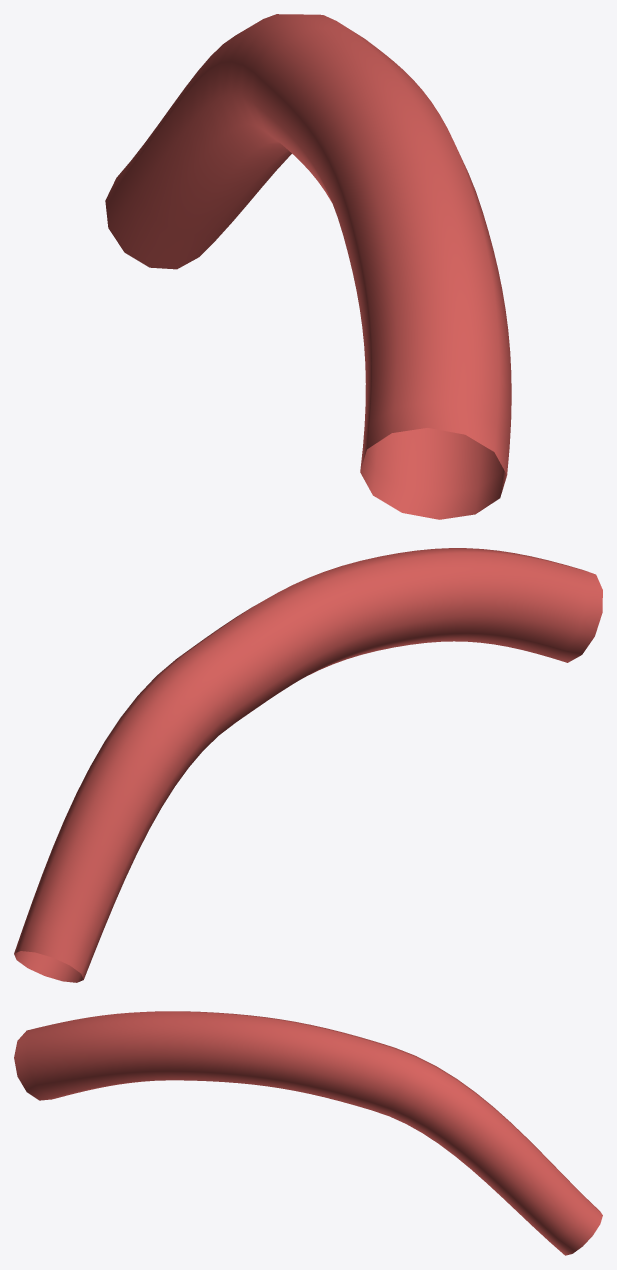
3 renders of one model, top to bottom at view 1: azimuth 30°, elevation 25°; view 2: azimuth 150°, elevation 25°; view 3: azimuth 270°, elevation 25°, orthographic. The views are drawn at different scales.
Parts seen in each view (by area): view 1: 左侧髂外动脉; view 2: 左侧髂外动脉; view 3: 左侧髂外动脉.
Part boxes in pixels (box(x1,y1,x2,y2)): 左侧髂外动脉: box(105, 14, 511, 519); 左侧髂外动脉: box(14, 548, 602, 982); 左侧髂外动脉: box(14, 1011, 602, 1255).
Bounding box in the file's own units: 0.0515 × 0.0551 × 0.1407.
